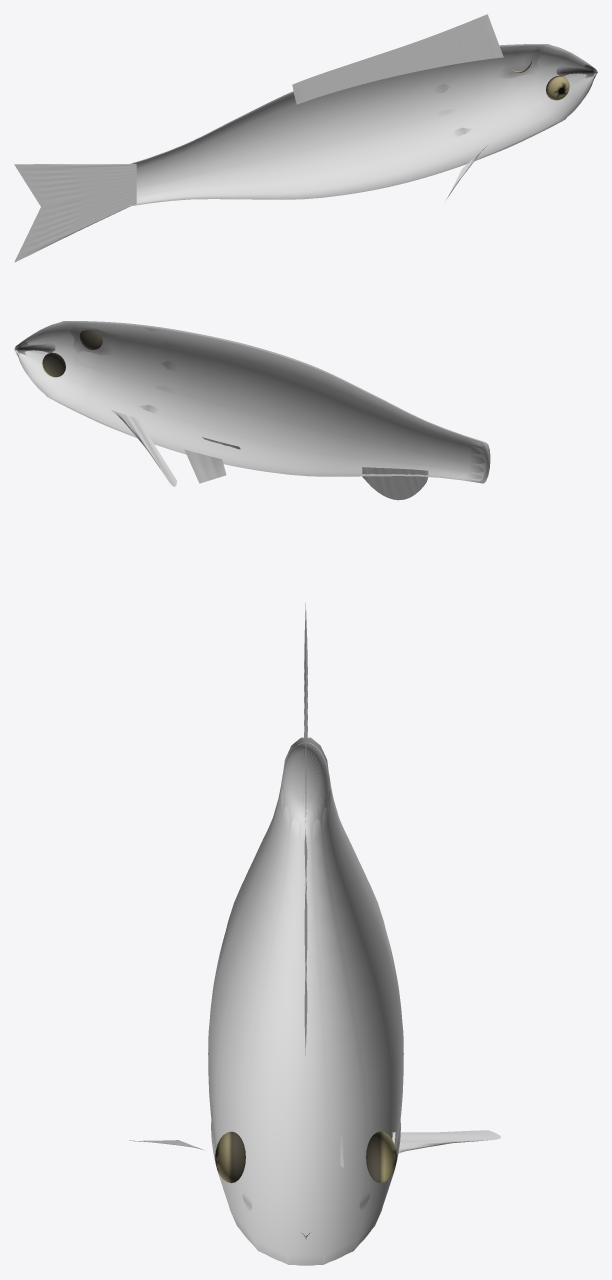
Rendered from rainbow-trout.glb.
3 renders of one model, top to bottom at view 1: azimuth 30°, elevation 25°; view 2: azimuth 150°, elevation 25°; view 3: azimuth 270°, elevation 25°, orthographic. The views are drawn at different scales.
Visible parts, largest first — view 1: BodyLow, Fins, Body, Eyes; view 2: BodyLow, Body, Fins, Eyes; view 3: BodyLow, Body, Fins, Eyes.
Boxes of the visible parts, left/top/right/bottom form: BodyLow: left=127, top=44, right=597, bottom=206; Fins: left=14, top=14, right=503, bottom=262; Body: left=126, top=44, right=597, bottom=205; Eyes: left=509, top=61, right=569, bottom=100; BodyLow: left=14, top=321, right=490, bottom=483; Body: left=14, top=321, right=489, bottom=482; Fins: left=111, top=380, right=428, bottom=500; Eyes: left=42, top=330, right=103, bottom=377; BodyLow: left=208, top=737, right=403, bottom=1264; Body: left=208, top=742, right=403, bottom=1265; Fins: left=129, top=603, right=500, bottom=1167; Eyes: left=215, top=1131, right=396, bottom=1183.
Size of the model in its own units: 0.6279 by 0.1632 by 0.1818.
